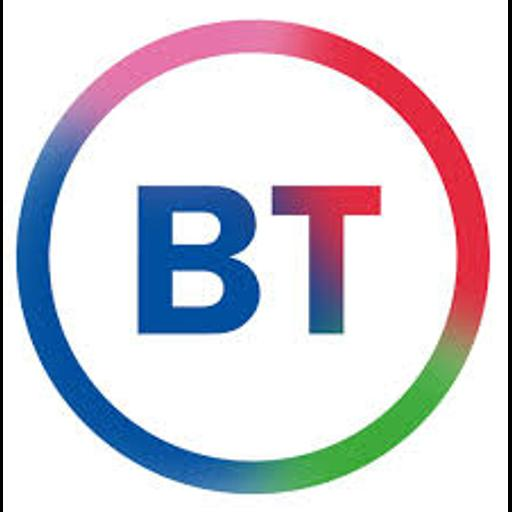BT Group plc: (3, 0, 508, 512)
